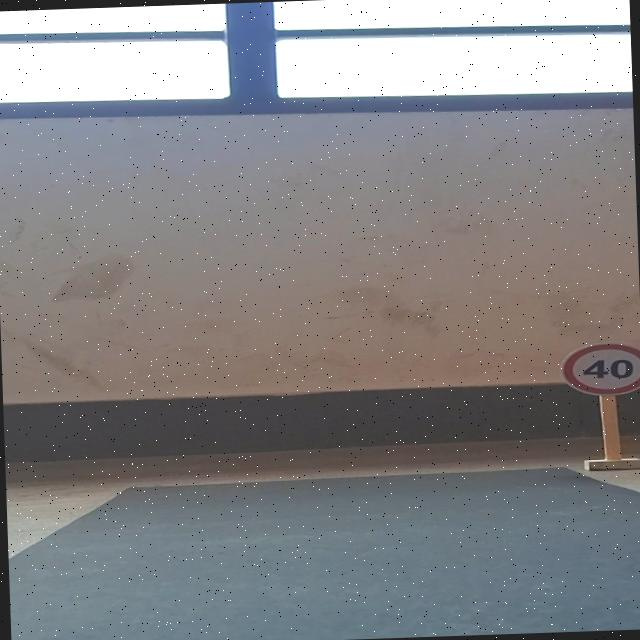Speed40: (554, 338, 640, 399)
